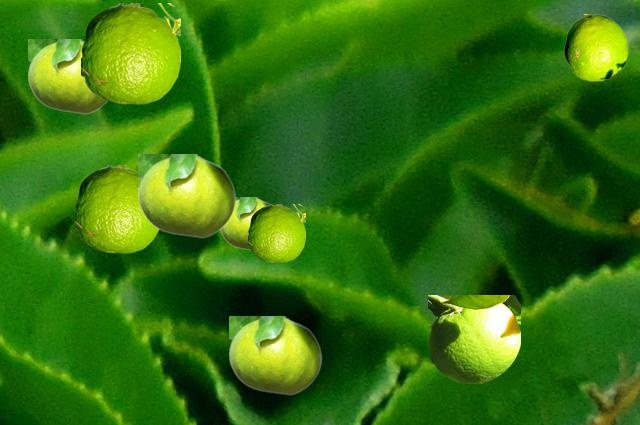dalandan: (81, 3, 179, 103), (138, 154, 235, 237), (428, 295, 519, 382), (75, 165, 158, 252), (229, 316, 321, 394), (28, 39, 107, 113), (564, 14, 627, 80), (248, 204, 304, 261), (220, 197, 270, 250)
